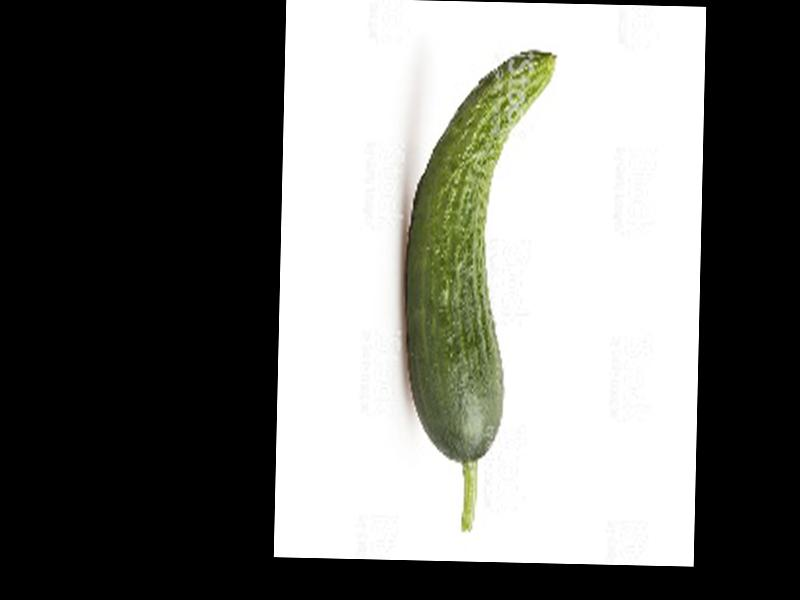Cucumber: (399, 47, 555, 534)
